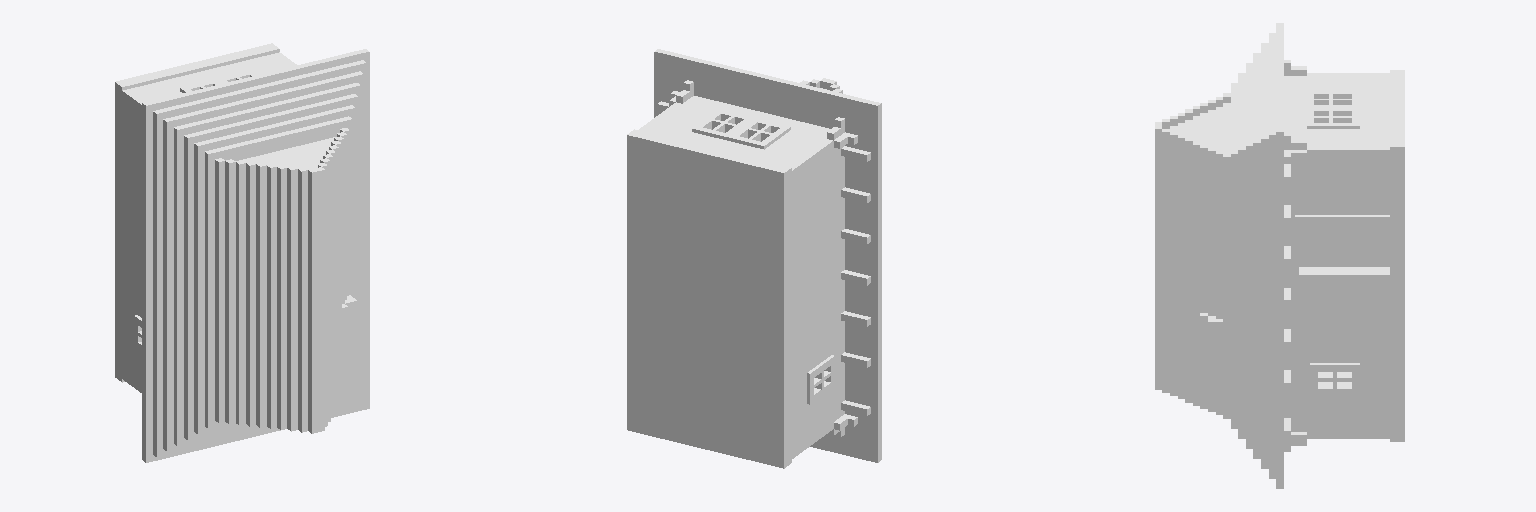
Rendered from chata.obj.
3 views of the same model, side by side, from view 1: azimuth 30°, elevation 25°; view 2: azimuth 150°, elevation 25°; view 3: azimuth 270°, elevation 25° (orthographic).
Parts seen in each view (by area): view 1: chata; view 2: chata; view 3: chata.
Boxes of the visible parts, box(x1,y1,x2,y2) form: chata: box(115, 43, 369, 462); chata: box(627, 49, 881, 468); chata: box(1155, 23, 1404, 488).
Size of the model in its own units: 68 by 104 by 66.